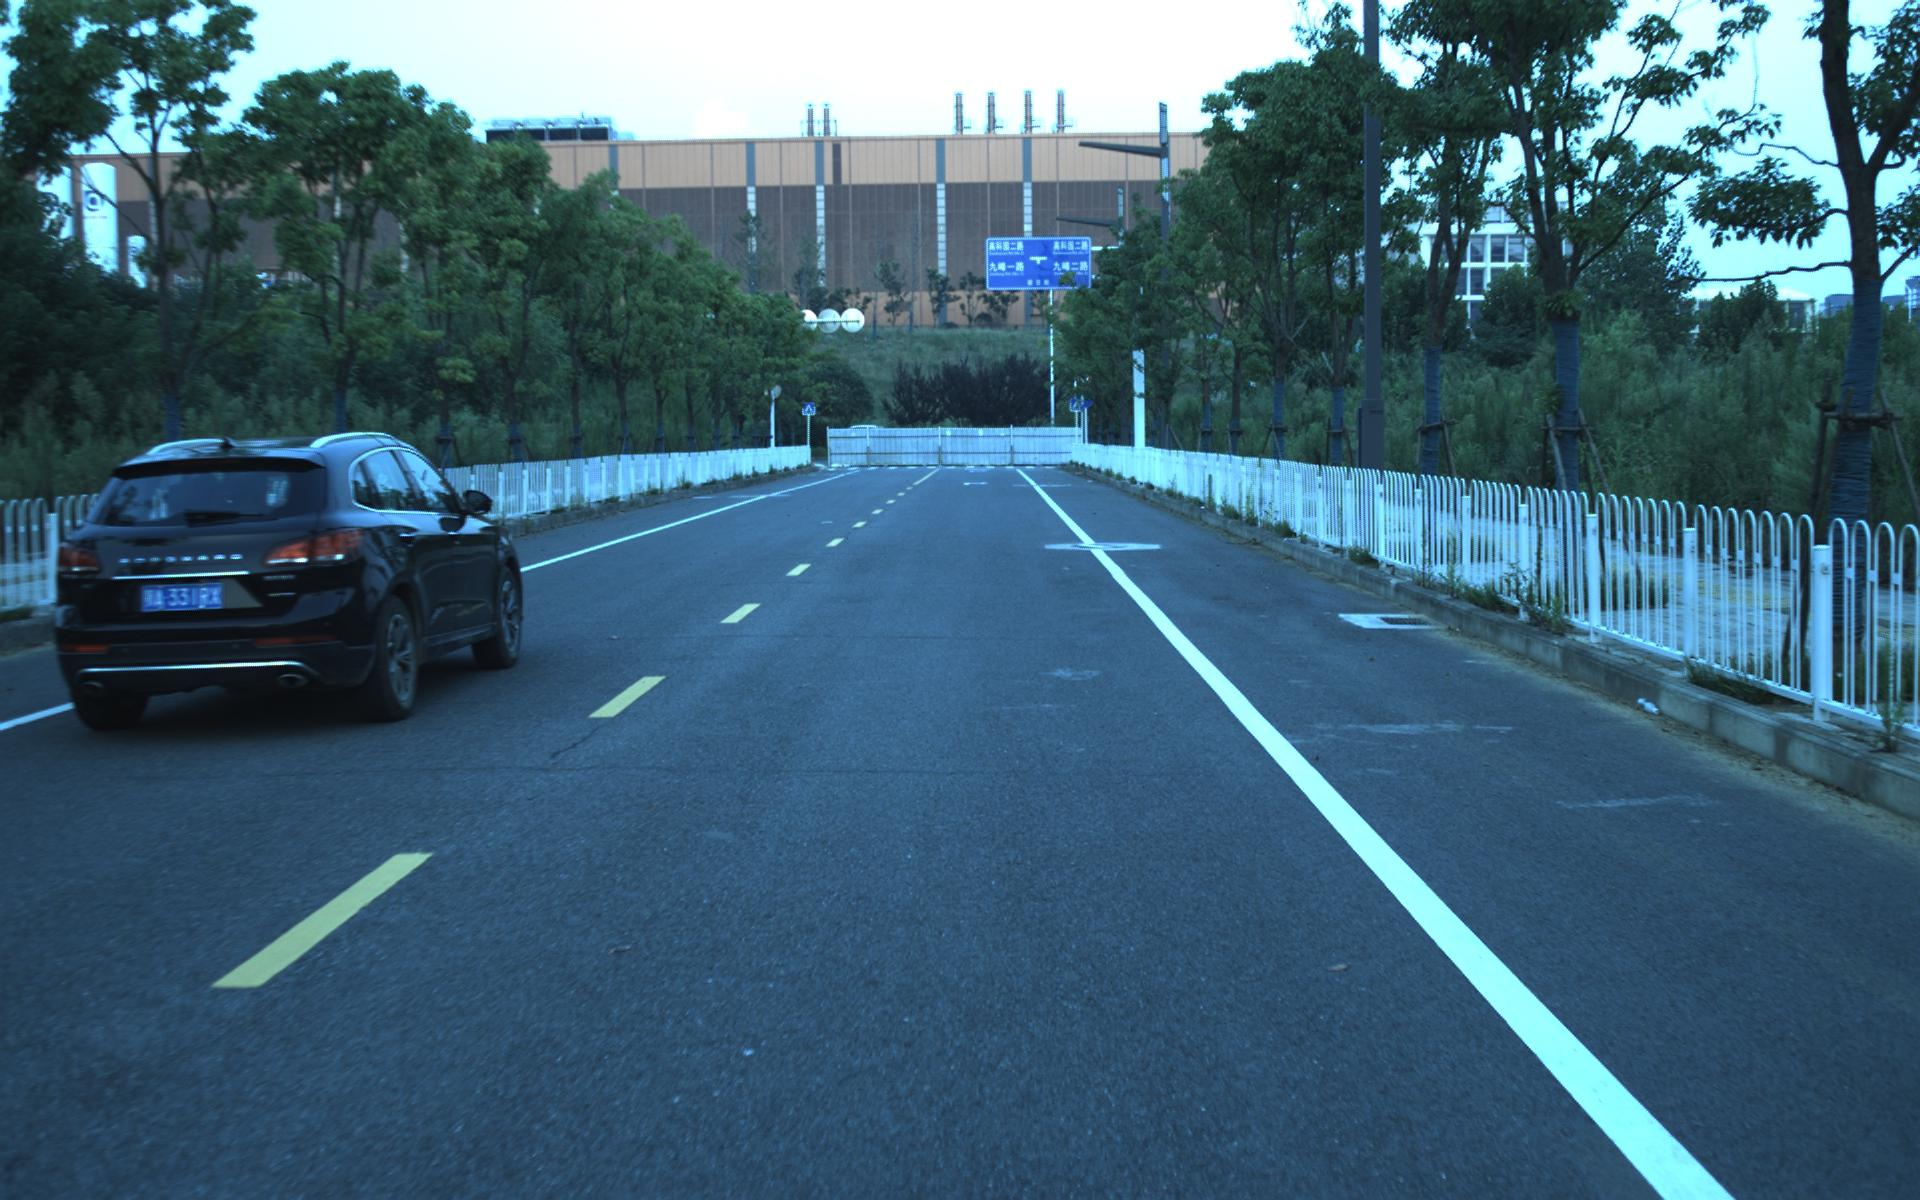Car: (35, 422, 528, 735)
